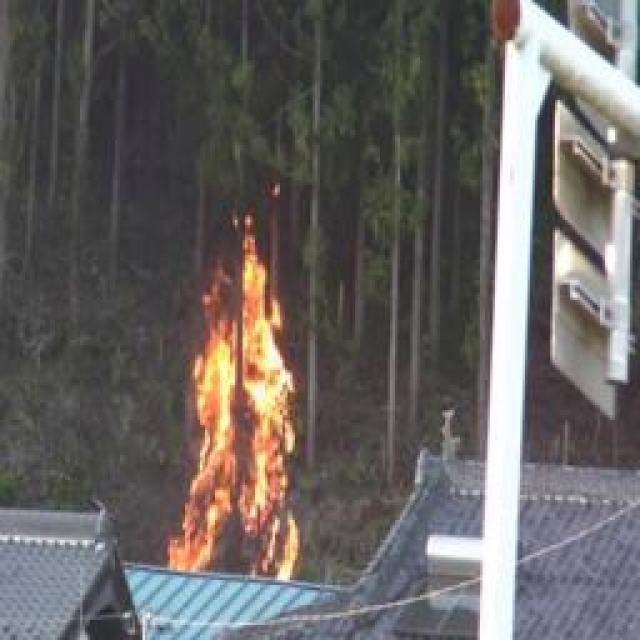Fire: (178, 217, 312, 588)
